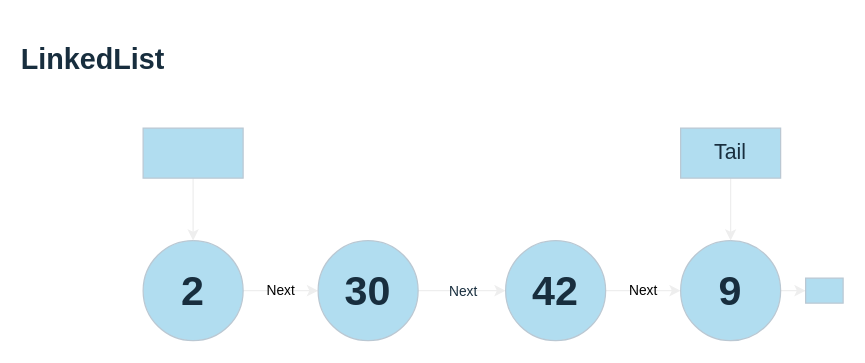
The diagram is 865 pixels wide and 363 high, and some of its shapes have lost their labels. Here are the shapes that lost their labels. From the top down, the centre of each, then its label:
At (x=192, y=152): "Head".
At (x=823, y=290): "None".
